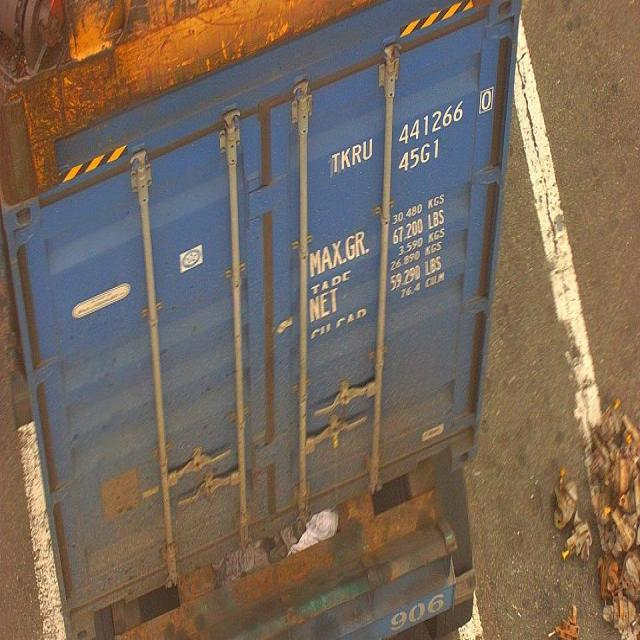ISO: (398, 137, 439, 173)
container_number: (330, 82, 496, 172)
